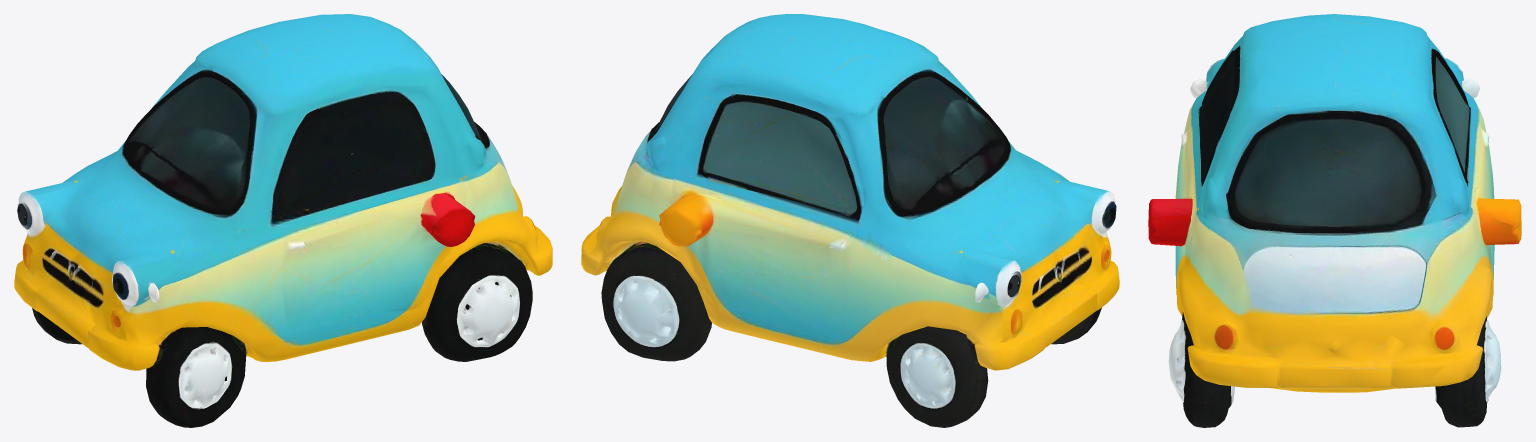
Rendered from car.glb.
The picture shows the model from 3 angles, left to right: view 1: azimuth 30°, elevation 25°; view 2: azimuth 150°, elevation 25°; view 3: azimuth 270°, elevation 25°; orthographic projection. The views are drawn at different scales.
Size of the model in its own units: 1.91 by 1.24 by 1.29.
1 material, 1 textured.
